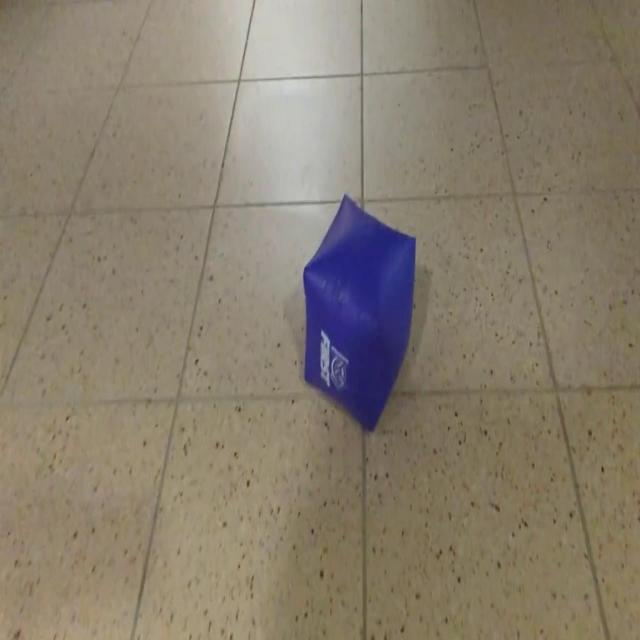frc_cube: (302, 196, 416, 436)
